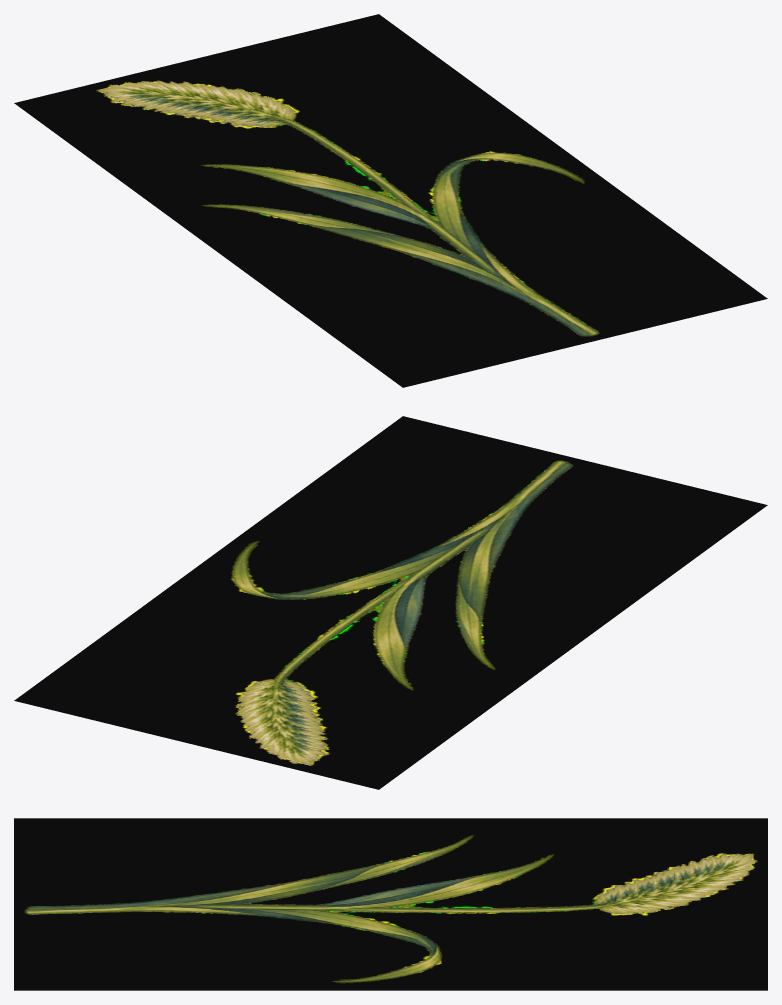
Rendered from Foxtail_1.fbx.
The picture shows the model from 3 angles, top to bottom: view 1: azimuth 30°, elevation 25°; view 2: azimuth 150°, elevation 25°; view 3: azimuth 270°, elevation 25°; orthographic projection. The views are drawn at different scales.
Visible parts, largest first — view 1: Plane001; view 2: Plane001; view 3: Plane001.
Part boxes in pixels (left/top/right/bottom): Plane001: left=14, top=14, right=767, bottom=387; Plane001: left=14, top=416, right=767, bottom=789; Plane001: left=14, top=818, right=767, bottom=990.
Size of the model in its own units: 9.23 by 1.04e-15 by 17.04.
